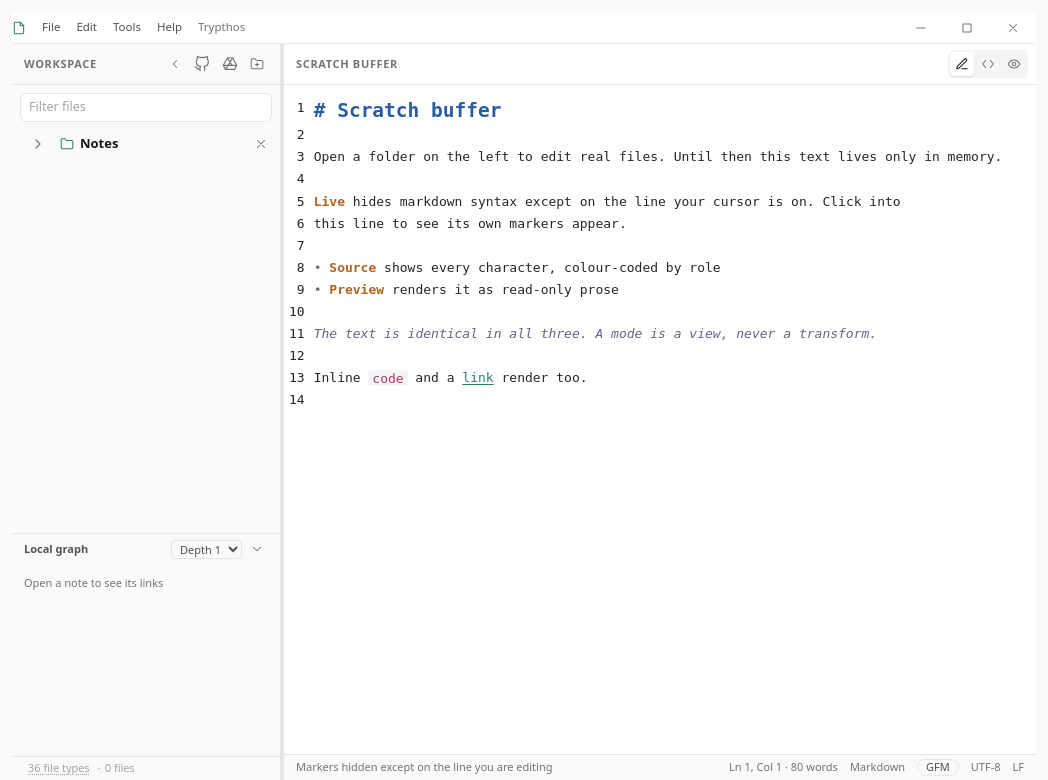
Test: App › open files › saves the open document somewhere else, and the tab follows it
Click the button named "Expand Notes".
click(38, 144)  # box [16,130,60,157]
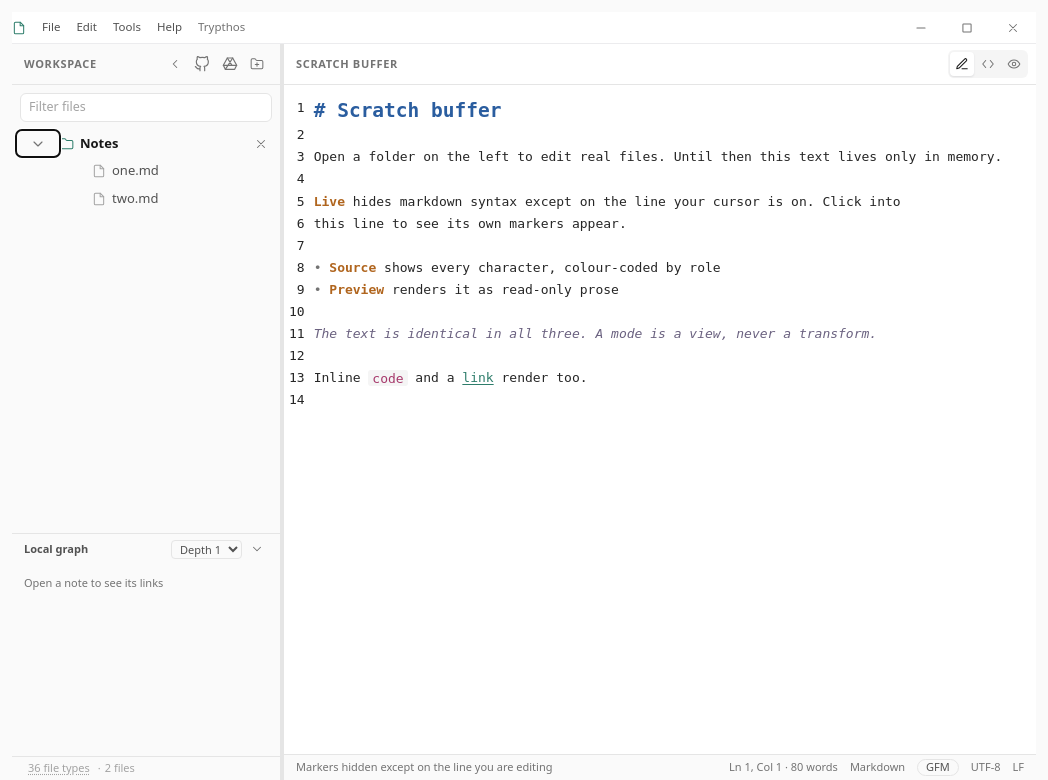
Now the button "one.md" is shown
Click the button "one.md".
click(146, 171)  # box [16,157,276,185]
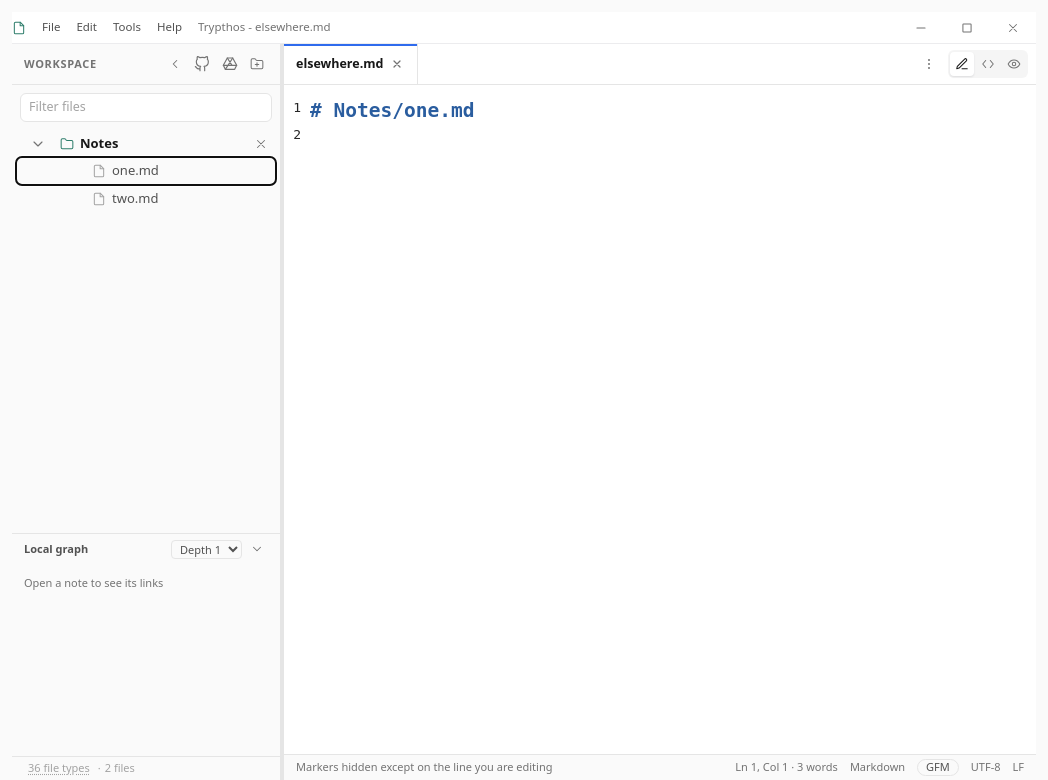
Now the tabs read "elsewhere.md", in this order, box [284,44,418,84]
